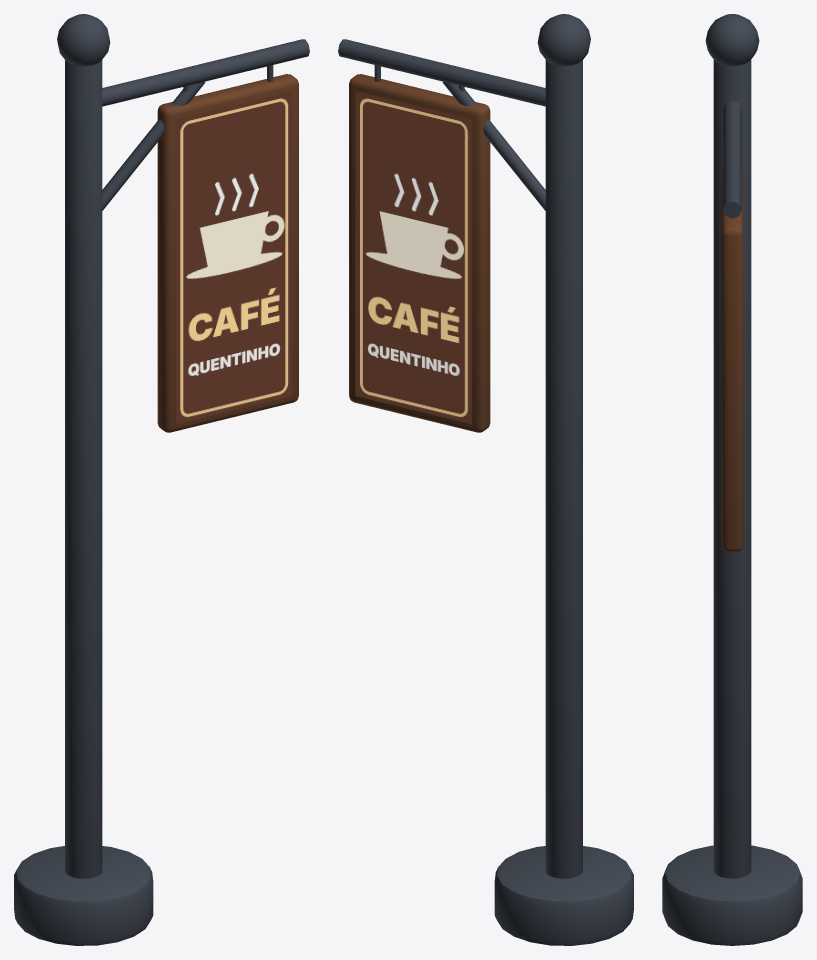
The model's file is placa_poste_cafe.glb.
3 renders of one model, left to right at view 1: azimuth 30°, elevation 25°; view 2: azimuth 150°, elevation 25°; view 3: azimuth 270°, elevation 25°, orthographic.
Parts seen in each view (by area): view 1: placa_poste_cafe; view 2: placa_poste_cafe; view 3: placa_poste_cafe.
Boxes of the visible parts, x1=… form: placa_poste_cafe: x1=14, y1=14, x2=309, y2=945; placa_poste_cafe: x1=338, y1=14, x2=633, y2=945; placa_poste_cafe: x1=662, y1=14, x2=802, y2=945.
Bounding box in the file's own units: 1.21 × 3.7 × 0.52.
Materials: 2 (2 with a texture image).
